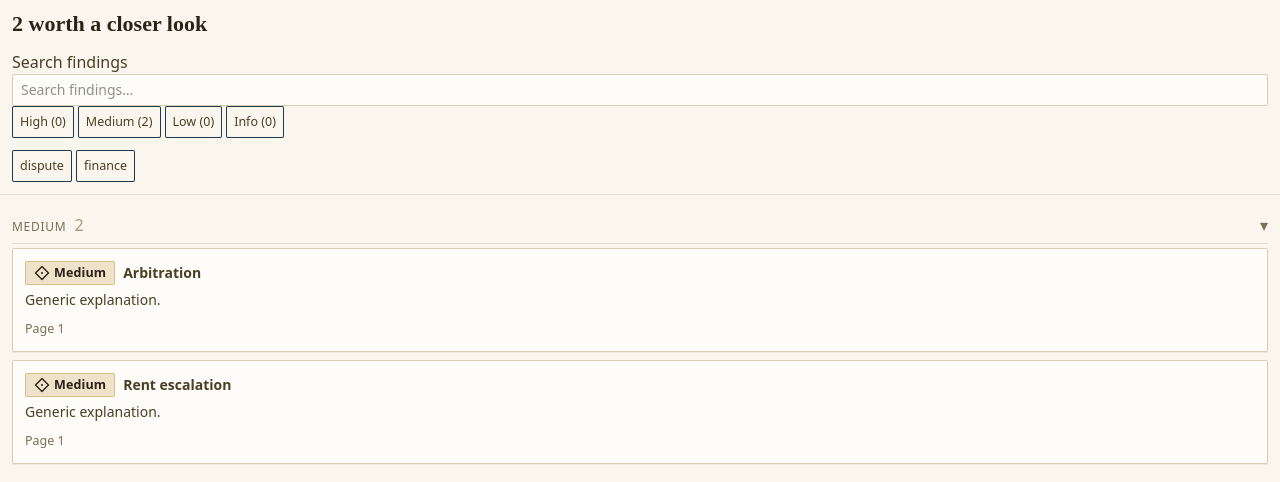
Test: FindingsPanel › hides findings when their category chip is toggled off
The image size is (1280, 482).
Click the button with aria-label "category dispute" at coordinates (42, 166), box [12,150,72,182]
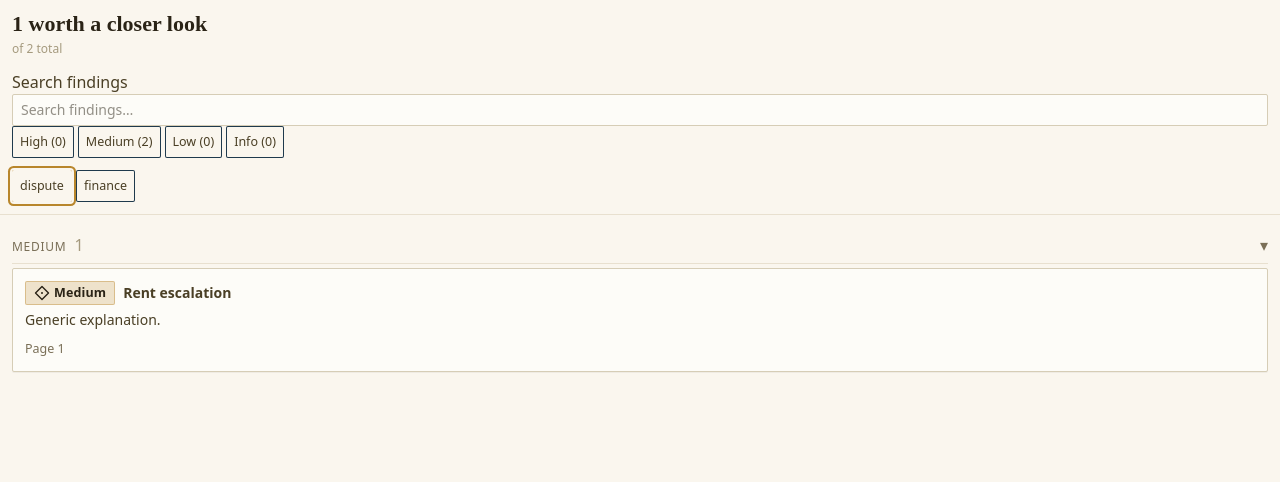
Expected: the text "Rent escalation" is shown, [123,282,231,304]
Expected: the button "Arbitration" is gone
